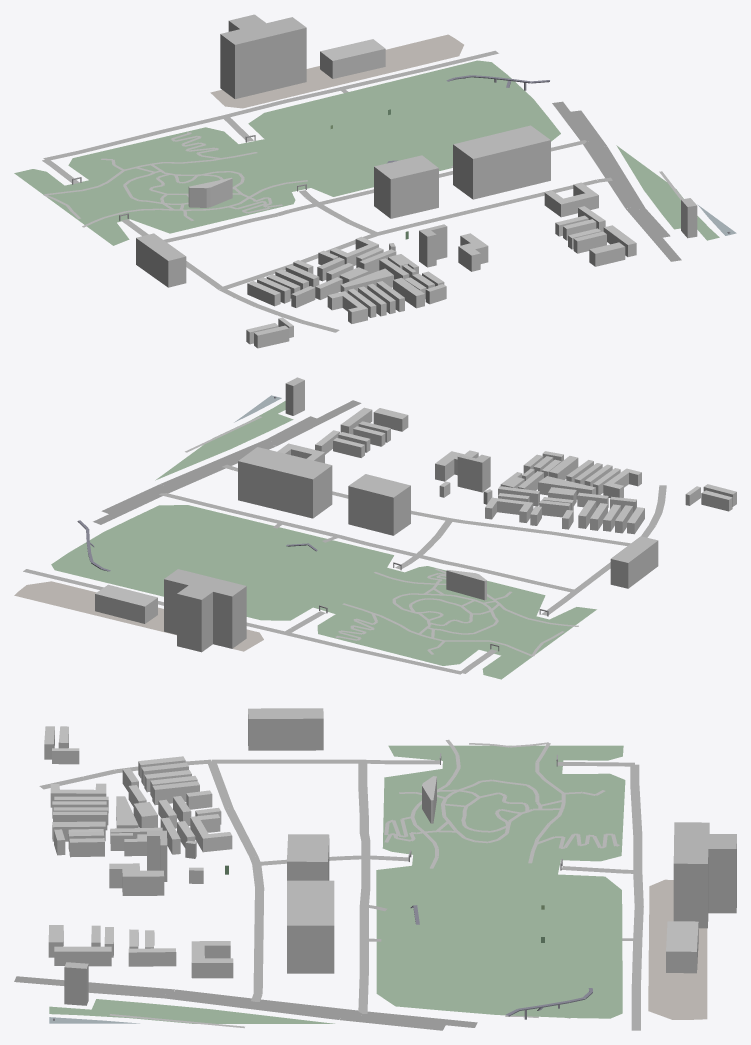
3 views of the same model, one above another, from view 1: azimuth 30°, elevation 25°; view 2: azimuth 150°, elevation 25°; view 3: azimuth 270°, elevation 25° (orthographic). The views are drawn at different scales.
Bounding box in the file's own units: 517 × 55.58 × 549.
